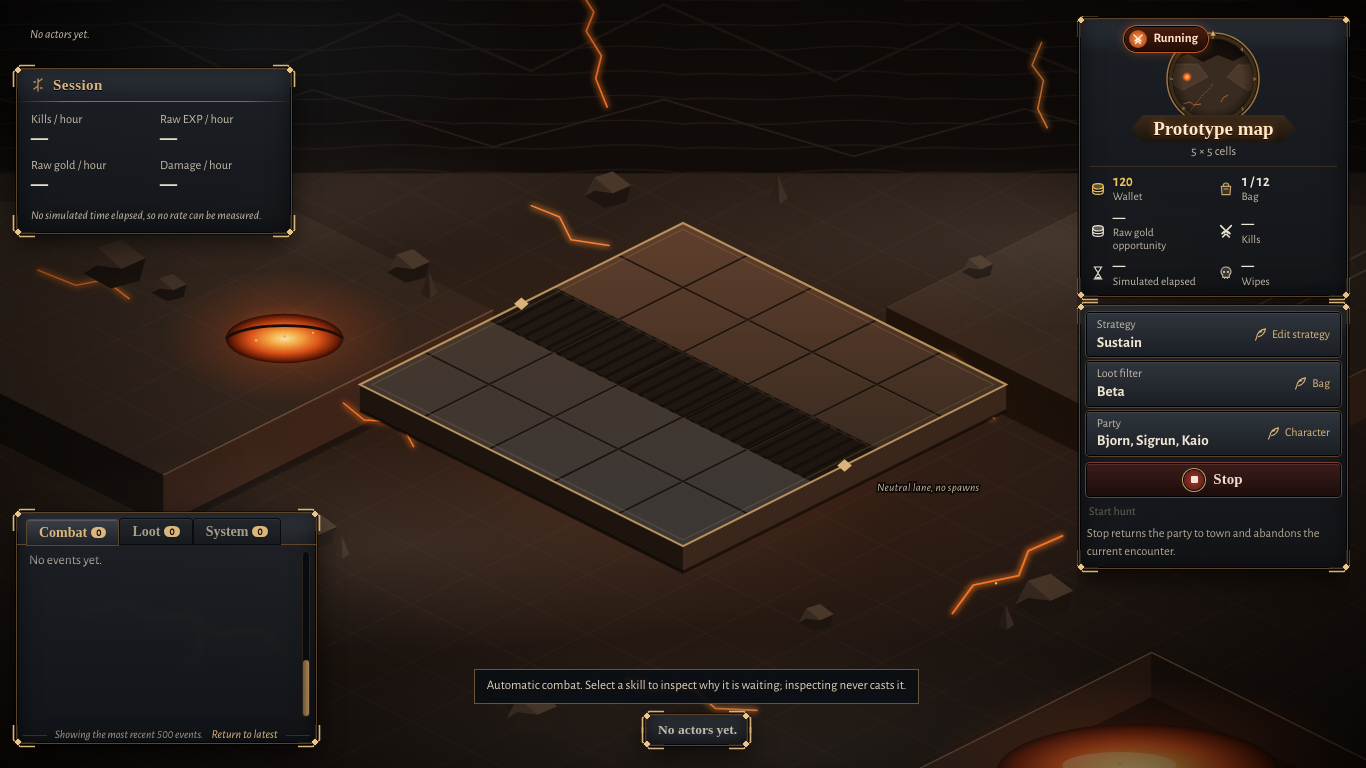
Scenario: the loot filter named is the one the hunt runs (I1) › the bag’s filter pane opens on the active preset
Click the button "Loot filter Beta Bag": [1213, 384] box [1087,362,1340,406]
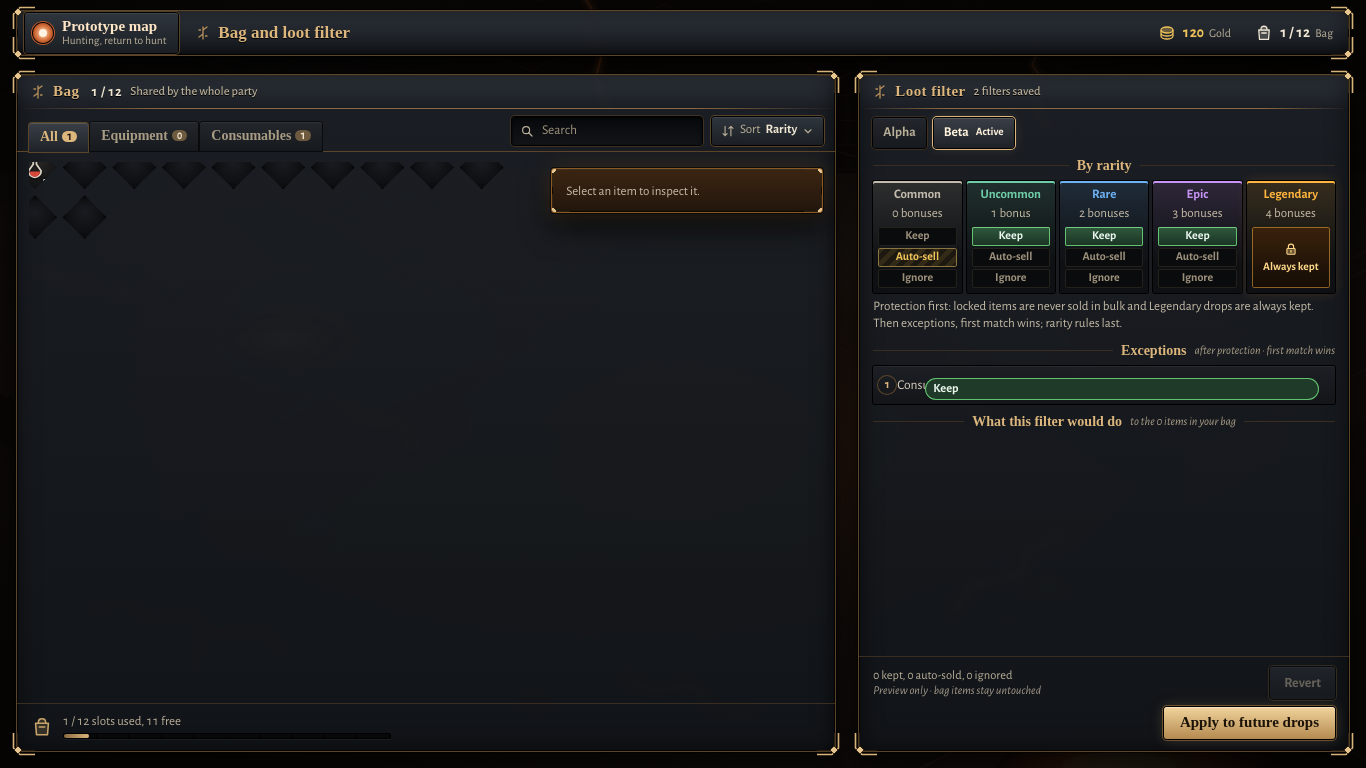
Check: the element with class "filter" is shown, box [858,74,1350,752]
